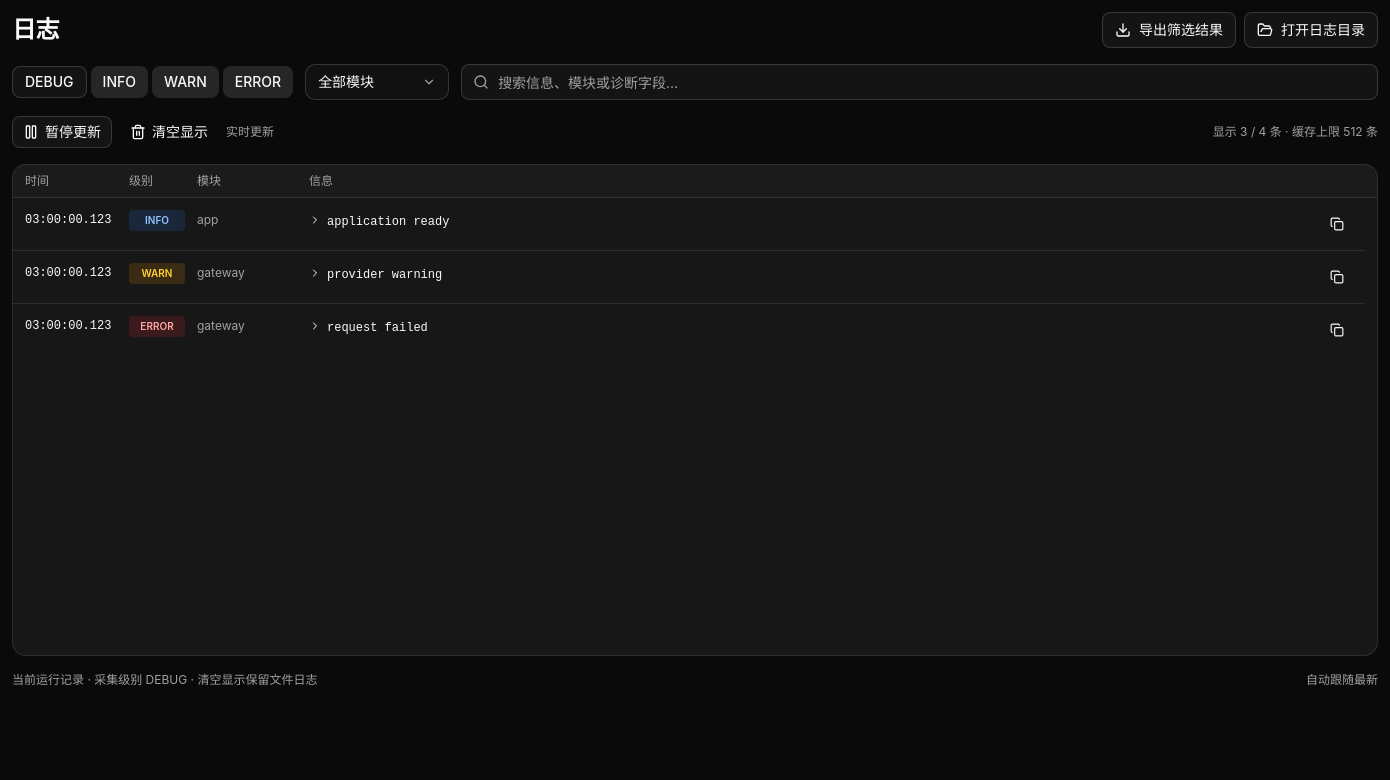
it: 实时日志页面 › 默认隐藏 Debug，可按模块和关键词筛选，并展开诊断字段
Expected: the text "application ready" is shown, left=327, top=212, right=449, bottom=232
Expected: the text "routing debug" is not shown
Click the button "DEBUG" at (49, 82), box left=12, top=66, right=87, bottom=98
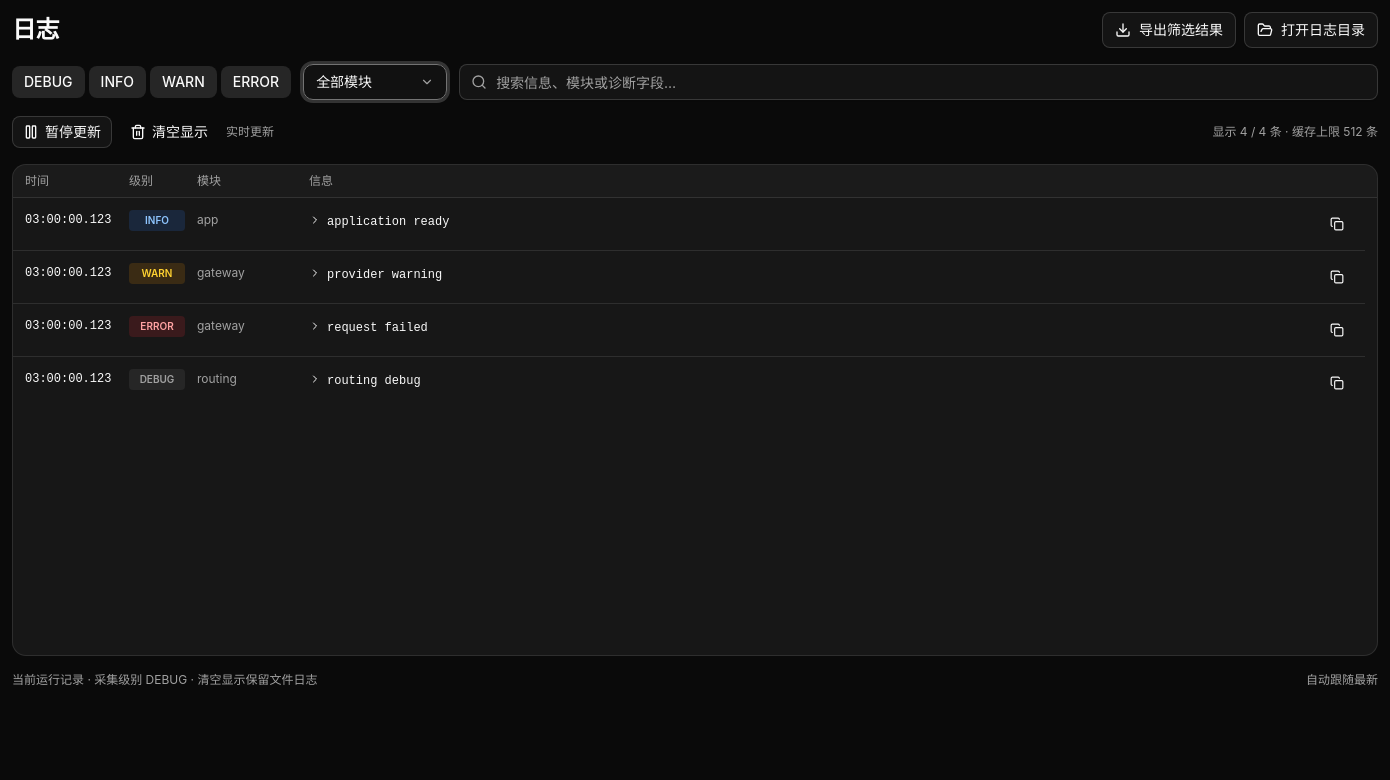
Now the text "routing debug" is shown, box left=327, top=371, right=421, bottom=391
Press Enter
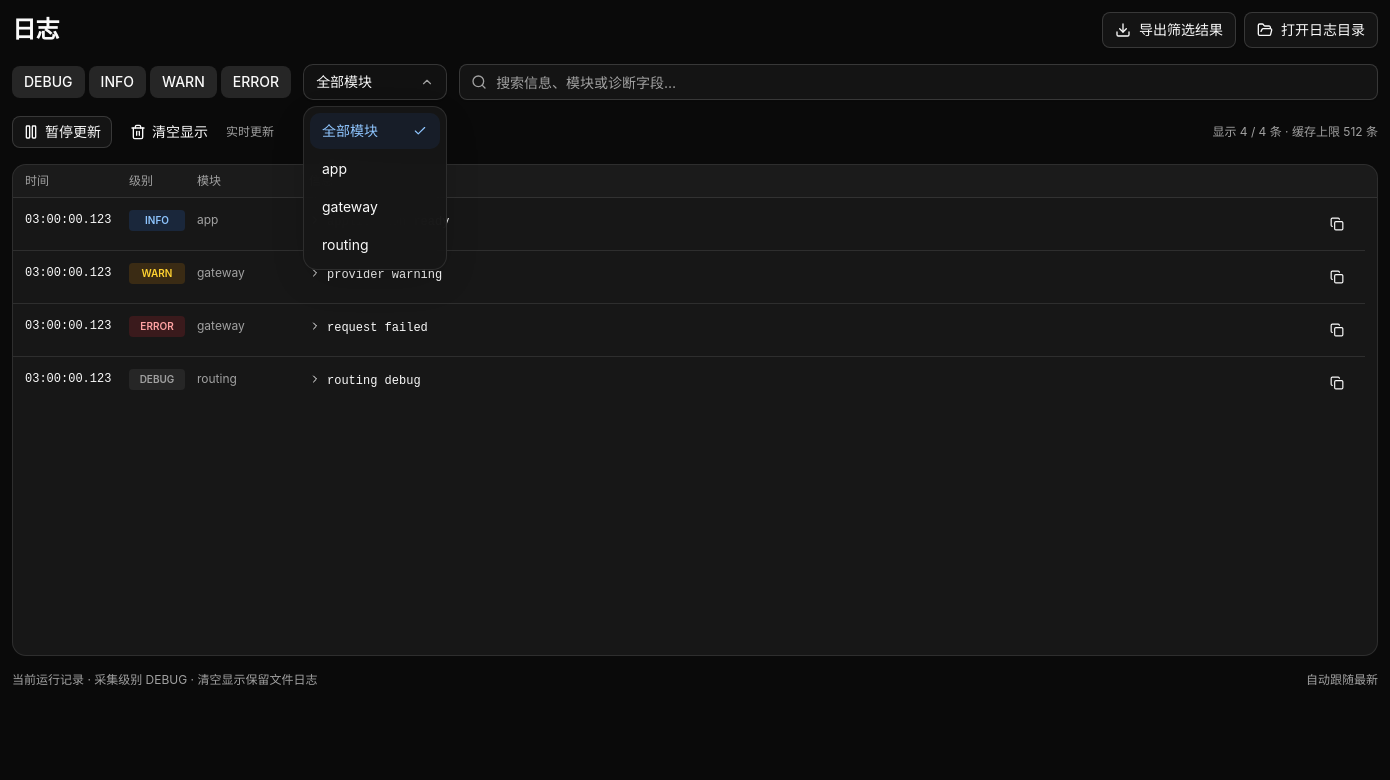
Click the option "gateway" at (350, 206), box left=322, top=198, right=378, bottom=215
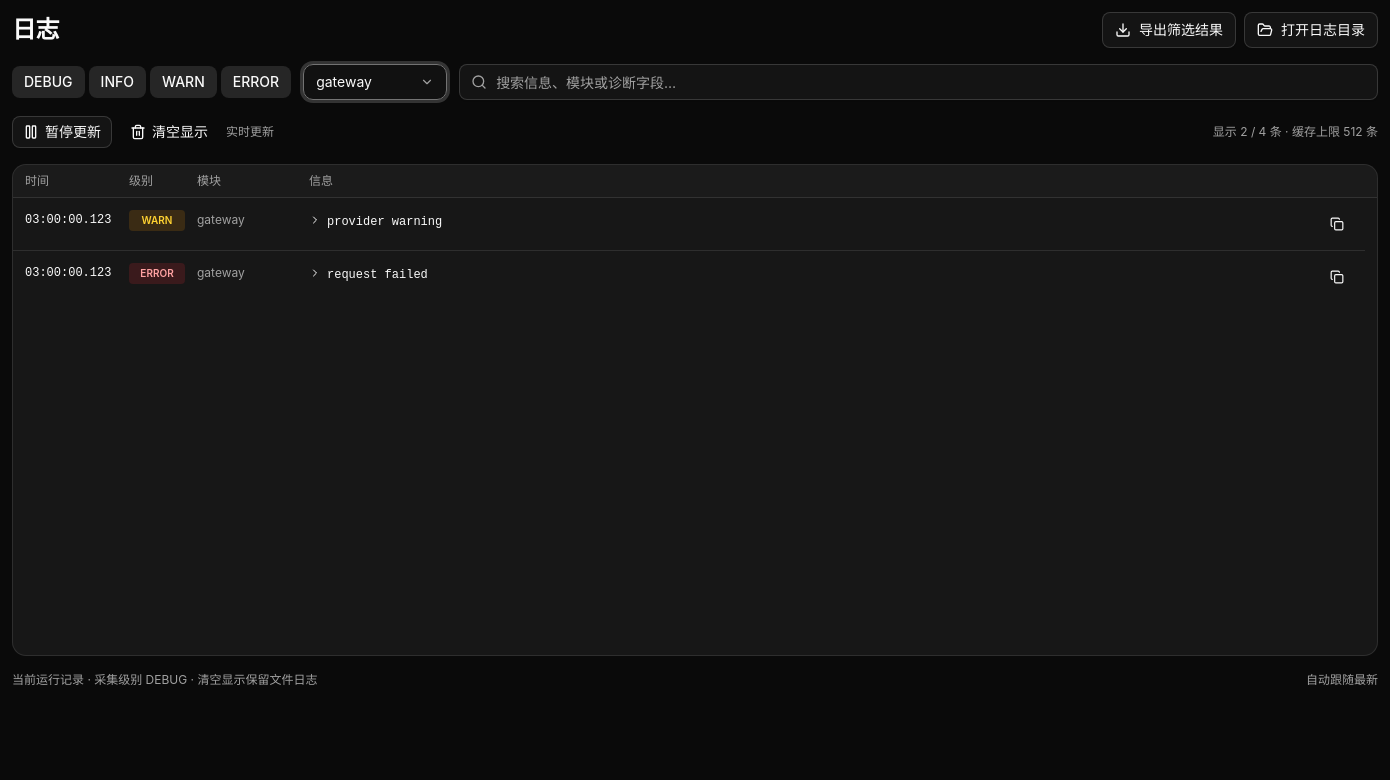
Now the heading "application ready" is gone
Type "failed" into the search field named "搜索日志" at (919, 82), box left=459, top=64, right=1378, bottom=100
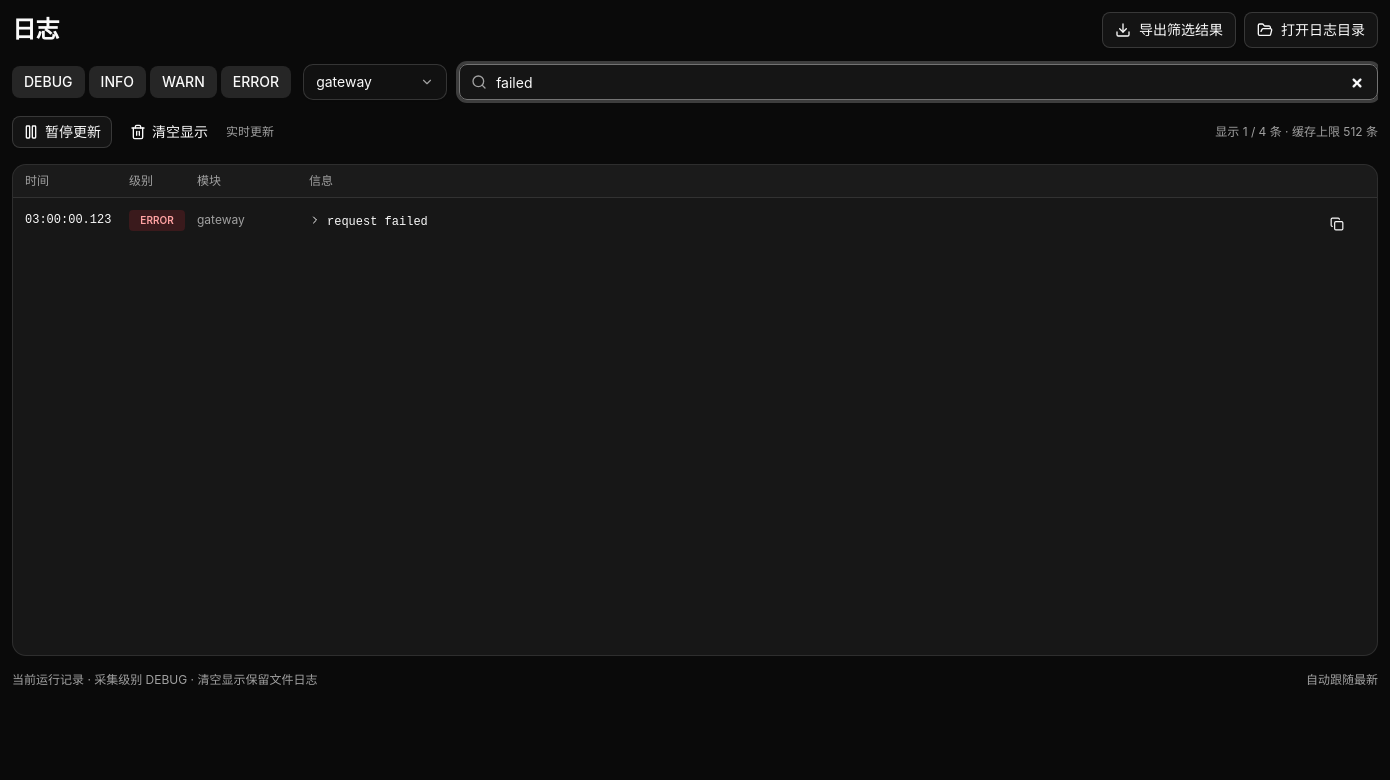
Now the heading "provider warning" is gone
Click the heading "request failed" at (368, 222), box left=309, top=214, right=428, bottom=229
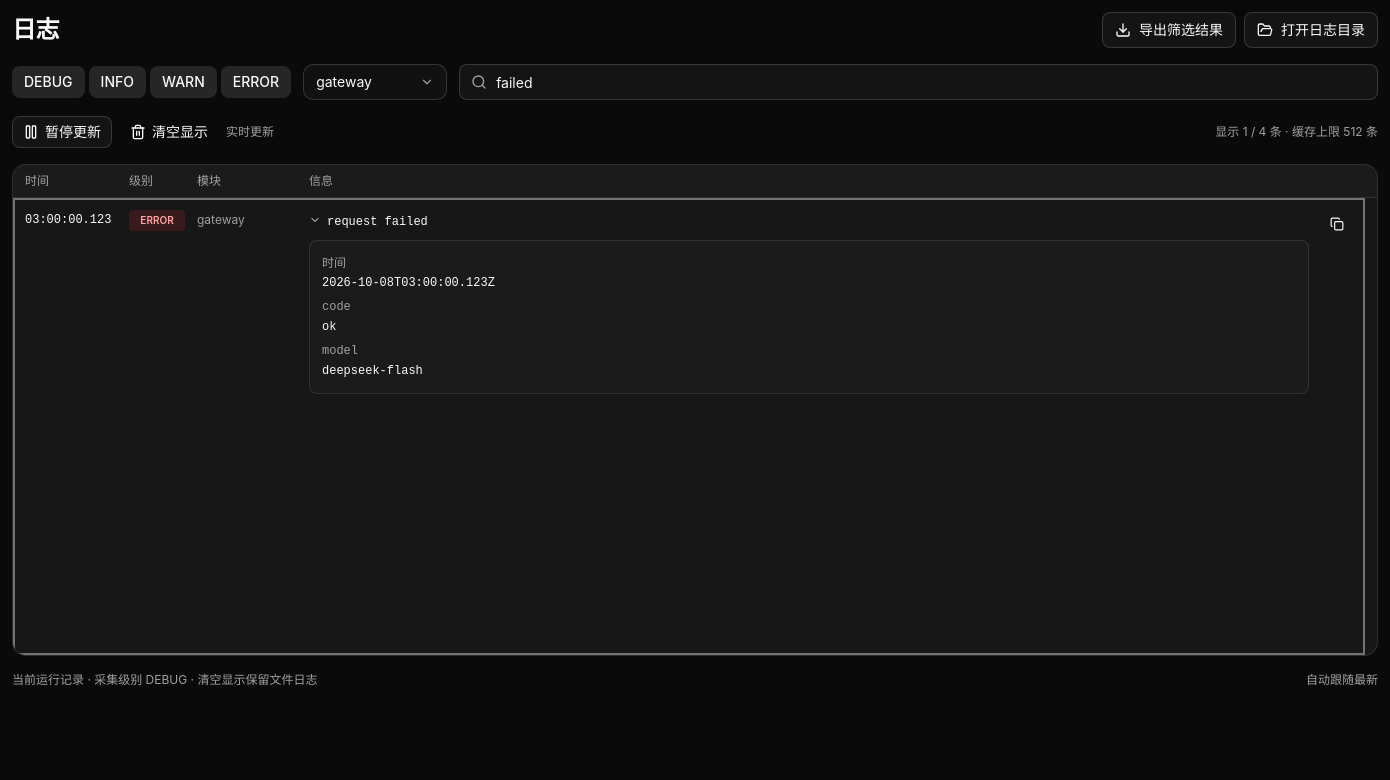
Now the text "deepseek-flash" is shown, box left=322, top=364, right=423, bottom=378
